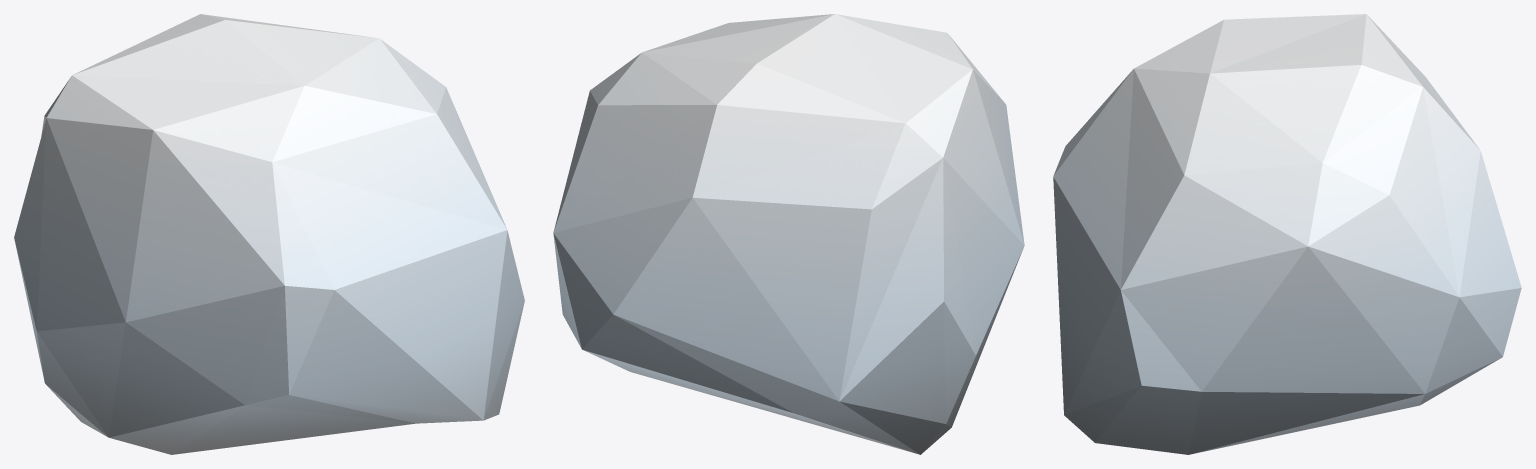
The model's file is Snowy_Stone_002.FBX.
3 views of the same model, side by side, from view 1: azimuth 30°, elevation 25°; view 2: azimuth 150°, elevation 25°; view 3: azimuth 270°, elevation 25° (orthographic). The views are drawn at different scales.
Parts seen in each view (by area): view 1: Snowy_Stone_002; view 2: Snowy_Stone_002; view 3: Snowy_Stone_002.
Boxes of the visible parts, left/top/right/bottom form: Snowy_Stone_002: left=14, top=14, right=524, bottom=454; Snowy_Stone_002: left=553, top=14, right=1024, bottom=454; Snowy_Stone_002: left=1053, top=14, right=1521, bottom=454.
Size of the model in its own units: 136 by 125 by 144.
1 material, 1 textured.
